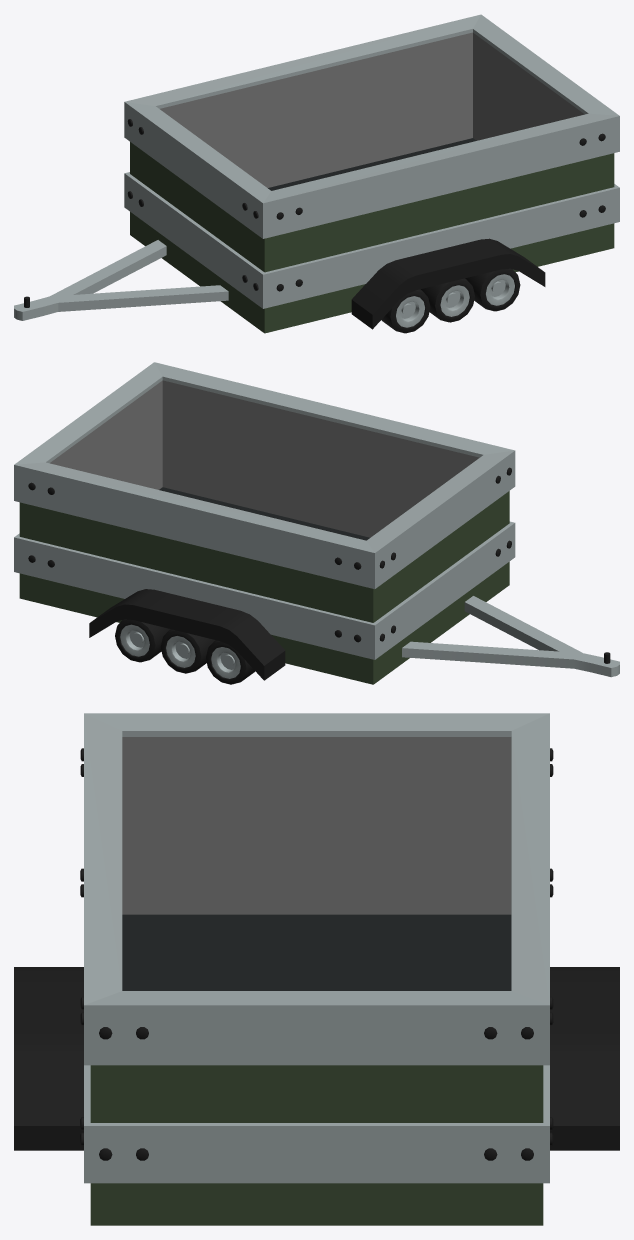
Rendered from RemorqueRobot.fbx.
The picture shows the model from 3 angles, top to bottom: view 1: azimuth 30°, elevation 25°; view 2: azimuth 150°, elevation 25°; view 3: azimuth 270°, elevation 25°; orthographic projection. The views are drawn at different scales.
Parts seen in each view (by area): view 1: CartRobot; view 2: CartRobot; view 3: CartRobot.
Part boxes in pixels (left/top/right/bottom): CartRobot: left=14, top=14, right=619, bottom=333; CartRobot: left=14, top=362, right=619, bottom=684; CartRobot: left=14, top=713, right=619, bottom=1225.
Bounding box in the file's own units: 4.57 × 1.21 × 2.68.
